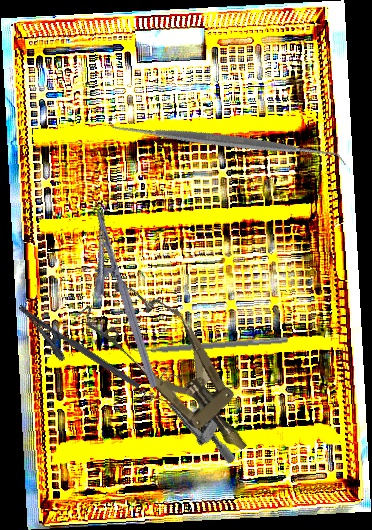Needle Holder: (70, 206, 159, 397), (6, 303, 142, 406)
Spatula Surgical: (106, 22, 348, 261), (126, 330, 289, 357)
Speculum: (75, 262, 275, 476), (131, 359, 258, 466)
